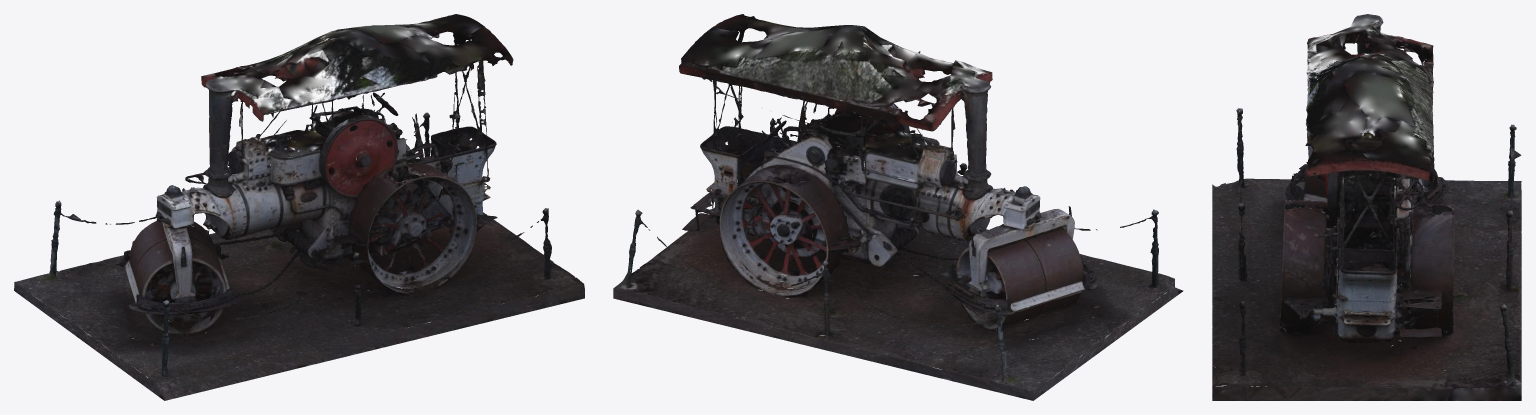
The model's file is hero_era_art_history_modern_art_breaking_the_rules_ae08ca.glb.
3 renders of one model, left to right at view 1: azimuth 30°, elevation 25°; view 2: azimuth 150°, elevation 25°; view 3: azimuth 270°, elevation 25°, orthographic. The views are drawn at different scales.
Parts seen in each view (by area): view 1: Object_2, Object_3; view 2: Object_2, Object_3; view 3: Object_2, Object_3.
Boxes of the visible parts, x1,y1,x2,y2 form: Object_2: (14,14,559,400); Object_3: (14,24,584,400); Object_2: (613,14,1183,400); Object_3: (618,14,1182,391); Object_2: (1212,20,1521,400); Object_3: (1212,14,1521,389).
Bounding box in the file's own units: 6.02 × 3.43 × 3.73.
1 material, 1 textured.
